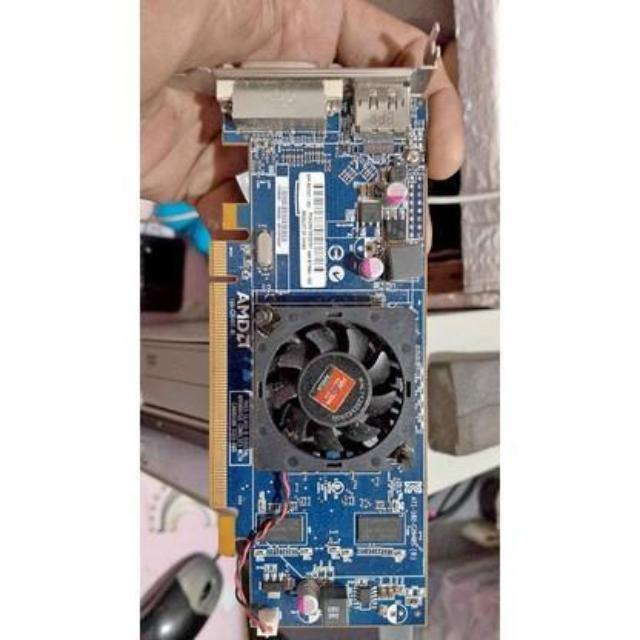GPU: (208, 51, 432, 640)
